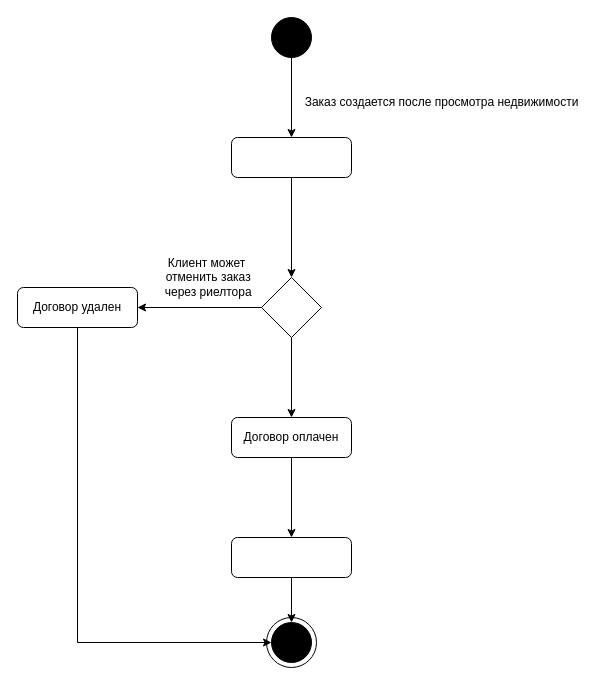
This 609x685 diagram has some shape labels left out. The box of each missing label's shape, as (x1, y1, x2, y2) in pixels:
Договор создан: (230, 136, 352, 178)
Сделка завершена: (230, 536, 352, 578)
